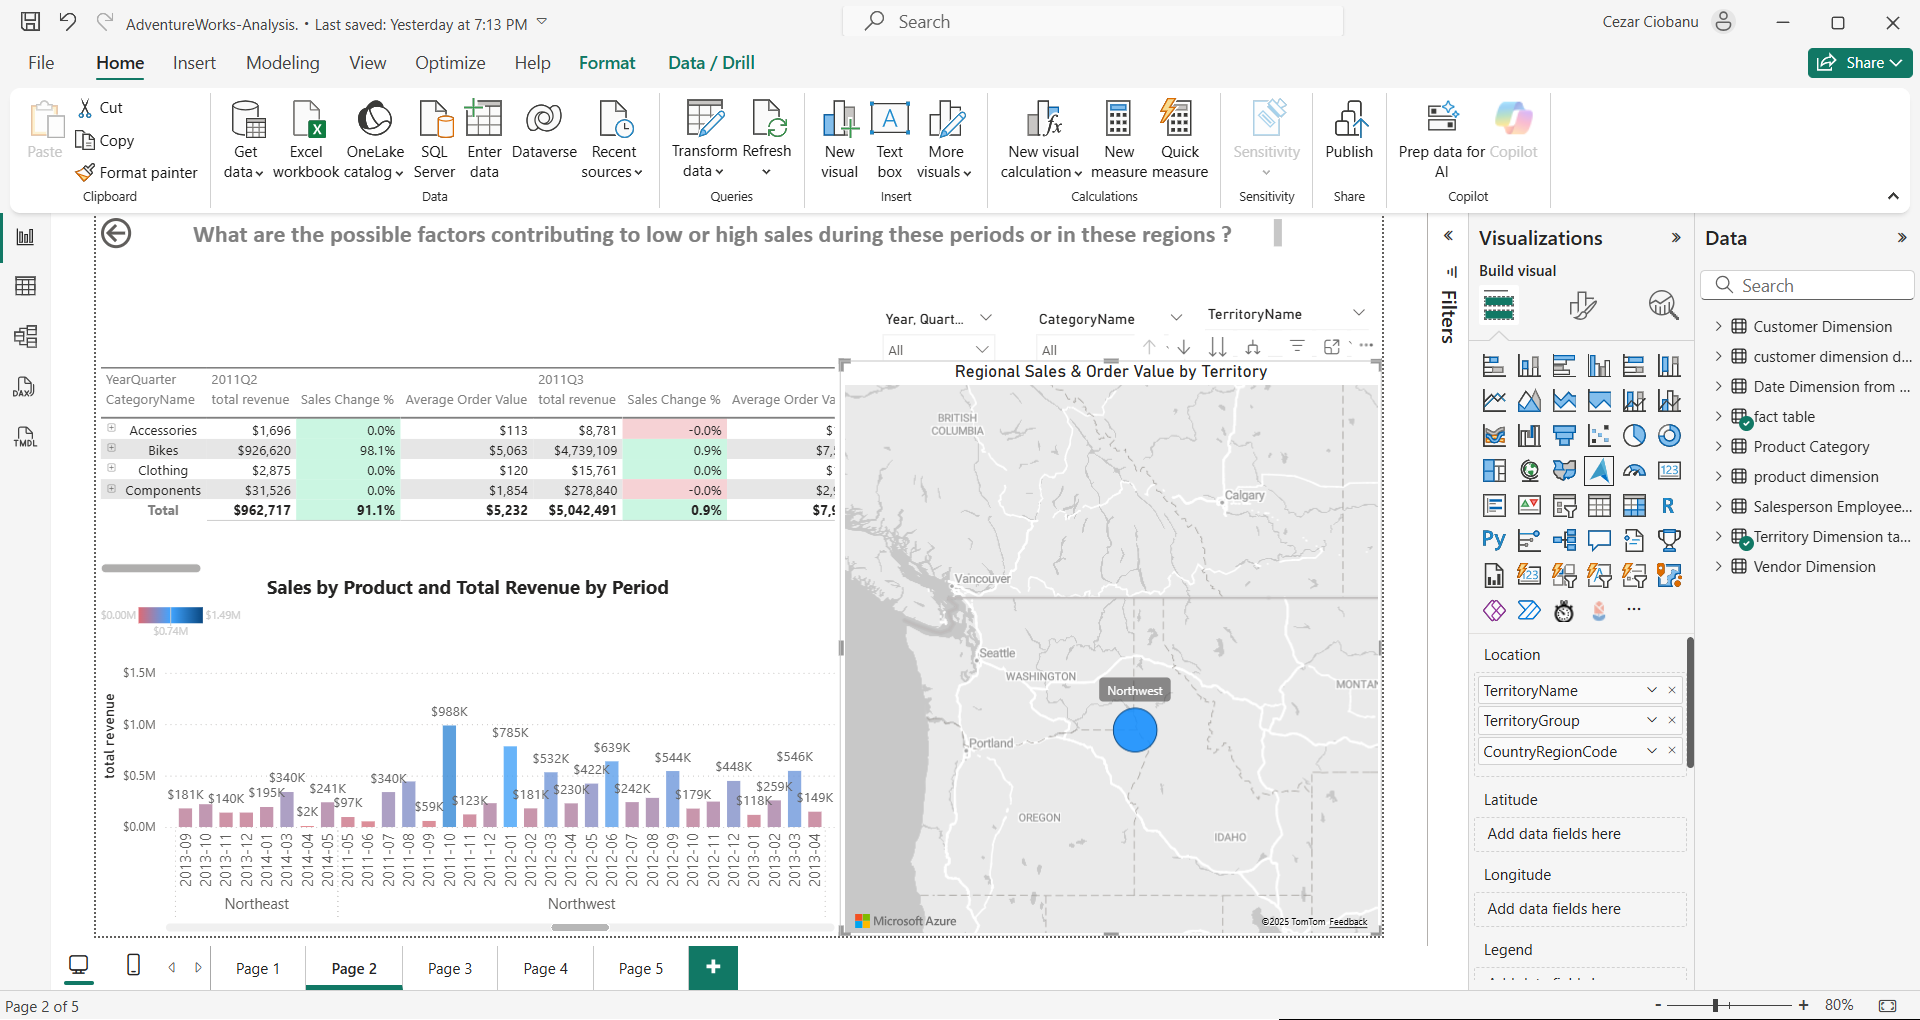

What the dashboard file says about the page in this screenshot:
{"tool":"powerbi","page":{"name":"Page 2","canvas":[1280,720],"ordinal":1},"visuals":[{"type":"columnChart","title":"Sales by Product and Total Revenue by Period","fields":{"Category":["Territory Dimension table.TerritoryName","Date Dimension from orders.Period"],"Y":["fact table.total revenue"]},"box":[0,359.5,740.2,360.7],"z":0},{"type":"slicer","title":"Period","fields":{"Values":["Date Dimension from orders.Year","Date Dimension from orders.Quarter"]},"box":[772.2,92.2,132.2,56.7],"z":1000},{"type":"actionButton","box":[0,0,100,40],"z":2000},{"type":"slicer","fields":{"Values":["Product Category.CategoryName"]},"box":[925,92.5,168.8,55],"z":3000},{"type":"slicer","fields":{"Values":["Territory Dimension table.TerritoryName"]},"box":[1093.8,87.5,182.5,60],"z":4000},{"type":"textbox","box":[50,1.7,1135,38.3],"z":5000},{"type":"pivotTable","fields":{"Rows":["Product Category.CategoryName","product dimension.ProductName"],"Columns":["Date Dimension from orders.YearQuarter"],"Values":["fact table.total revenue","fact table.Sales Change %","fact table.Average Order Value"]},"box":[0,147.5,740,215],"z":6000},{"type":"azureMap","title":"Regional Sales & Order Value by Territory ","fields":{"Category":["Territory Dimension table.TerritoryName","Territory Dimension table.TerritoryGroup","Territory Dimension table.CountryRegionCode"],"Size":["fact table.total revenue"]},"box":[740,146.2,540,573.8],"z":7000}]}

Visuals, with their boxes on the page's 1280x720 design canvas (x1, y1, x2, y2). These are canvas units, not pixel positions in the 1920x1020 screenshot, which may show the page scaled, cropped or inside an application window:
"Sales by Product and Total Revenue by Period" columnChart: <box>0,360,740,720</box>
"Period" slicer: <box>772,92,904,149</box>
actionButton: <box>0,0,100,40</box>
slicer - Product Category.CategoryName: <box>925,92,1094,148</box>
slicer - Territory Dimension table.TerritoryName: <box>1094,88,1276,148</box>
textbox: <box>50,2,1185,40</box>
pivotTable - Product Category.CategoryName x product dimension.ProductName: <box>0,148,740,362</box>
"Regional Sales & Order Value by Territory " azureMap: <box>740,146,1280,720</box>
